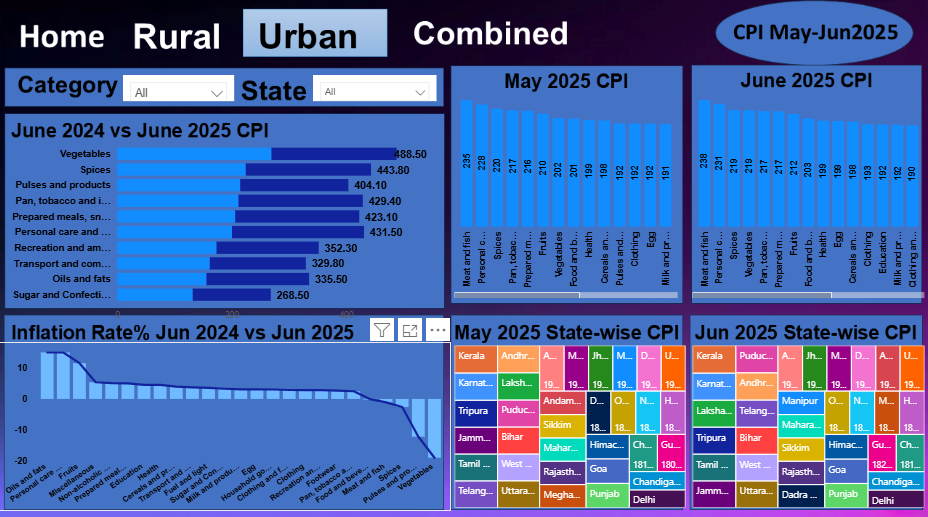

This screenshot's page, from the dashboard's own definition file:
{"tool":"powerbi","page":{"name":"Urban Dashboard","canvas":[1280,720],"ordinal":2},"visuals":[{"type":"slicer","fields":{"Values":["Annex-II.Category"]},"box":[171.6,105.8,153,35.8],"z":0},{"type":"slicer","fields":{"Values":["Annex-III.State/UT"]},"box":[433.3,105.8,170.2,35.8],"z":1000},{"type":"barChart","fields":{"Category":["Annex-II.Category"],"Y":["Sum(Annex-II.Urban_June_2024_CPI)","Sum(Annex-II.Urban_June_2025_CPI)"]},"box":[0,184.5,605,270.3],"z":2000},{"type":"lineStackedColumnComboChart","fields":{"Category":["Annex-II.Category"],"Y":["Sum(Annex-II.Urban_Inflation_Rate%)"],"Y2":["Sum(Annex-II.Urban_Inflation_Rate%)"]},"box":[0,473.4,623.6,233.1],"z":3000},{"type":"clusteredColumnChart","fields":{"Category":["Annex-I.Category"],"Y":["Sum(Annex-I.Urban_May_2025_CPI)"]},"box":[623.6,105.8,317.5,311.8],"z":4000},{"type":"clusteredColumnChart","fields":{"Y":["Sum(Annex-I.Urban_June_2025_CPI)"],"Category":["Annex-I.Category"]},"box":[951.1,105.8,328.9,311.8],"z":5000},{"type":"treemap","fields":{"Values":["Sum(Annex-III.Urban_May_2025_CPI)"],"Group":["Annex-III.State/UT"]},"box":[623.6,473.4,327.5,233.1],"z":6000},{"type":"treemap","fields":{"Values":["Sum(Annex-III.Urban_June_2025_CPI)"],"Group":["Annex-III.State/UT"]},"box":[951.1,473.4,328.9,233.1],"z":7000},{"type":"actionButton","box":[24.3,25.7,128.7,54.3],"z":8000},{"type":"actionButton","box":[171.6,25.7,153,54.3],"z":9000},{"type":"actionButton","box":[572.1,25.7,228.8,54.3],"z":10000}]}

Visuals, with their boxes in screenshot pixels (x1, y1, x2, y2), scaled from the page's 1280x720 canvas onto the 928x517 screenshot:
slicer - Annex-II.Category: detection(124, 76, 235, 102)
slicer - Annex-III.State/UT: detection(314, 76, 438, 102)
barChart - Annex-II.Category x Sum(Annex-II.Urban_June_2024_CPI): detection(0, 132, 439, 327)
lineStackedColumnComboChart - Annex-II.Category x Sum(Annex-II.Urban_Inflation_Rate%): detection(0, 340, 452, 507)
clusteredColumnChart - Annex-I.Category x Sum(Annex-I.Urban_May_2025_CPI): detection(452, 76, 682, 300)
clusteredColumnChart - Sum(Annex-I.Urban_June_2025_CPI) x Annex-I.Category: detection(690, 76, 927, 300)
treemap - Sum(Annex-III.Urban_May_2025_CPI) x Annex-III.State/UT: detection(452, 340, 690, 507)
treemap - Sum(Annex-III.Urban_June_2025_CPI) x Annex-III.State/UT: detection(690, 340, 927, 507)
actionButton: detection(18, 18, 111, 57)
actionButton: detection(124, 18, 235, 57)
actionButton: detection(415, 18, 581, 57)
